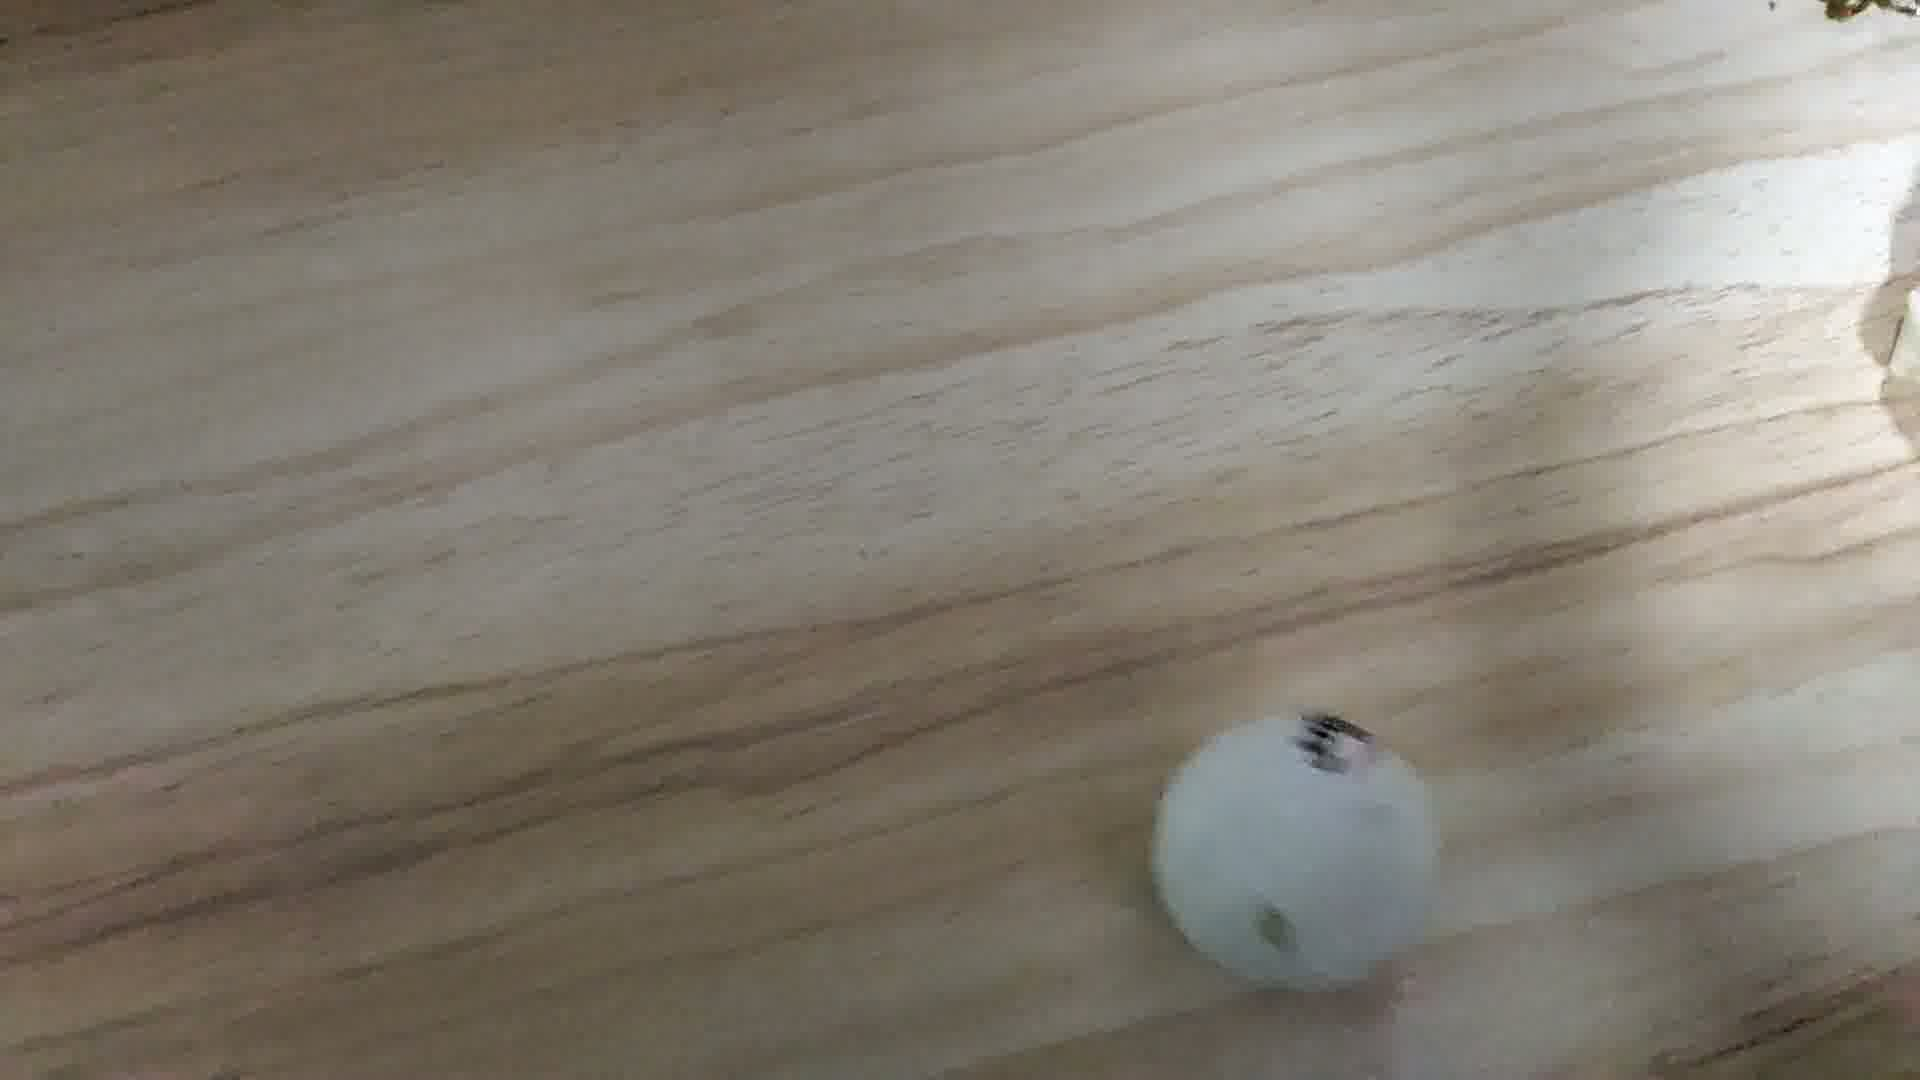Ball: (1162, 705, 1433, 986)
